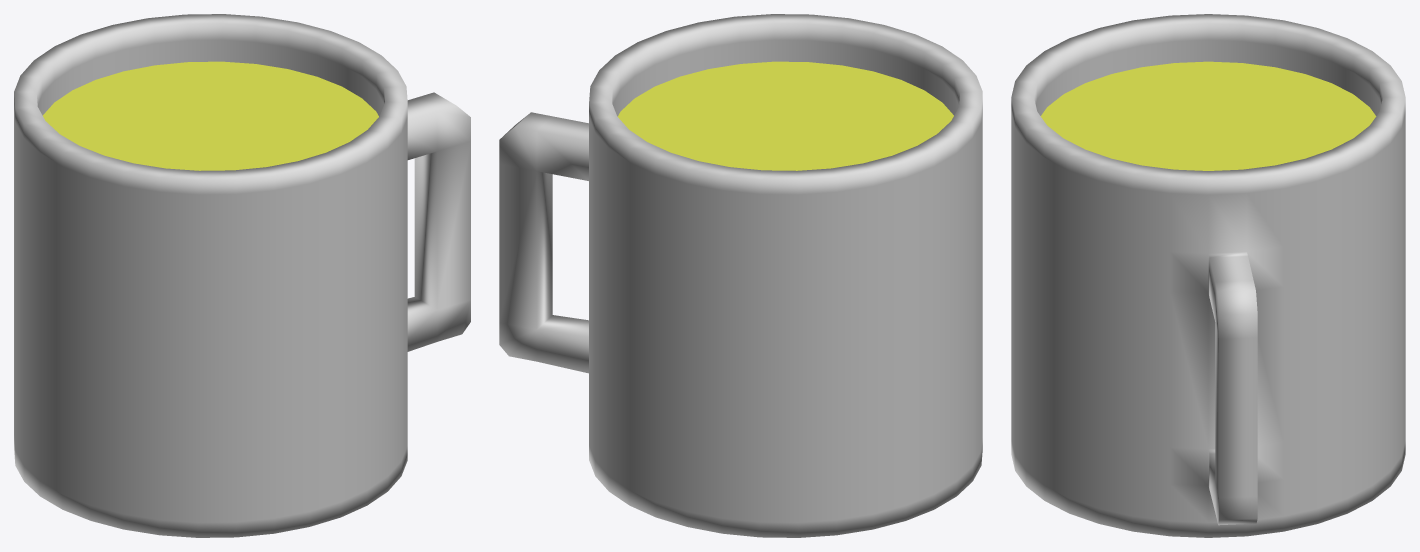
File: Bear.fbx
3 views of the same model, side by side, from view 1: azimuth 30°, elevation 25°; view 2: azimuth 150°, elevation 25°; view 3: azimuth 270°, elevation 25° (orthographic).
Visible parts, largest first — view 1: 円柱; view 2: 円柱; view 3: 円柱.
Part boxes in pixels (x1,y1,x2,y2): 円柱: [14, 14, 470, 537]; 円柱: [499, 14, 982, 537]; 円柱: [1011, 14, 1405, 537].
Size of the model in its own units: 255 by 200 by 200.
